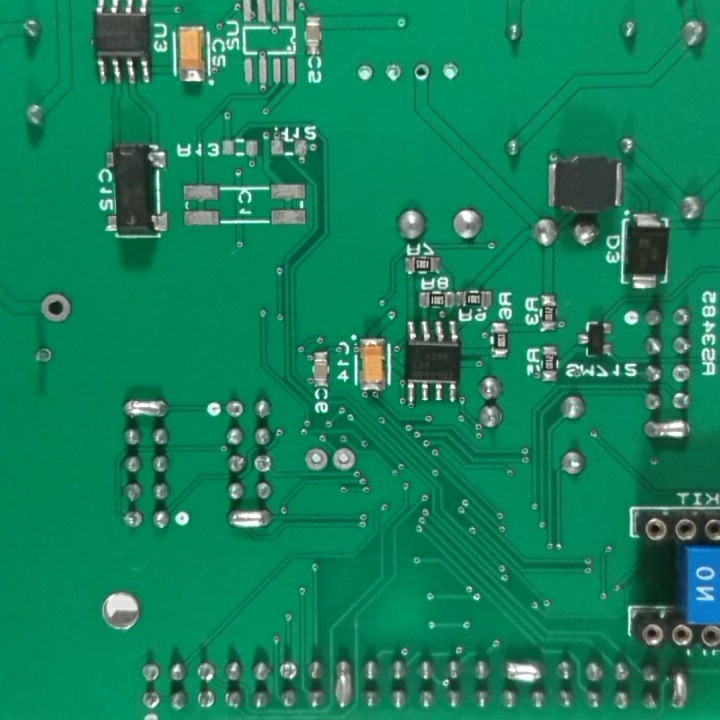F: (39, 292, 73, 326), (330, 443, 358, 476), (301, 446, 332, 473), (30, 344, 59, 368), (276, 660, 301, 687), (251, 452, 276, 477), (439, 60, 462, 85), (120, 510, 146, 532), (139, 689, 163, 712), (351, 62, 376, 84), (672, 363, 693, 389), (223, 398, 246, 421), (381, 60, 403, 84), (410, 62, 433, 84), (195, 689, 217, 710)
P: (639, 415, 696, 443), (501, 657, 549, 686), (332, 655, 356, 712), (120, 395, 170, 421), (224, 507, 276, 532), (667, 664, 692, 712)
